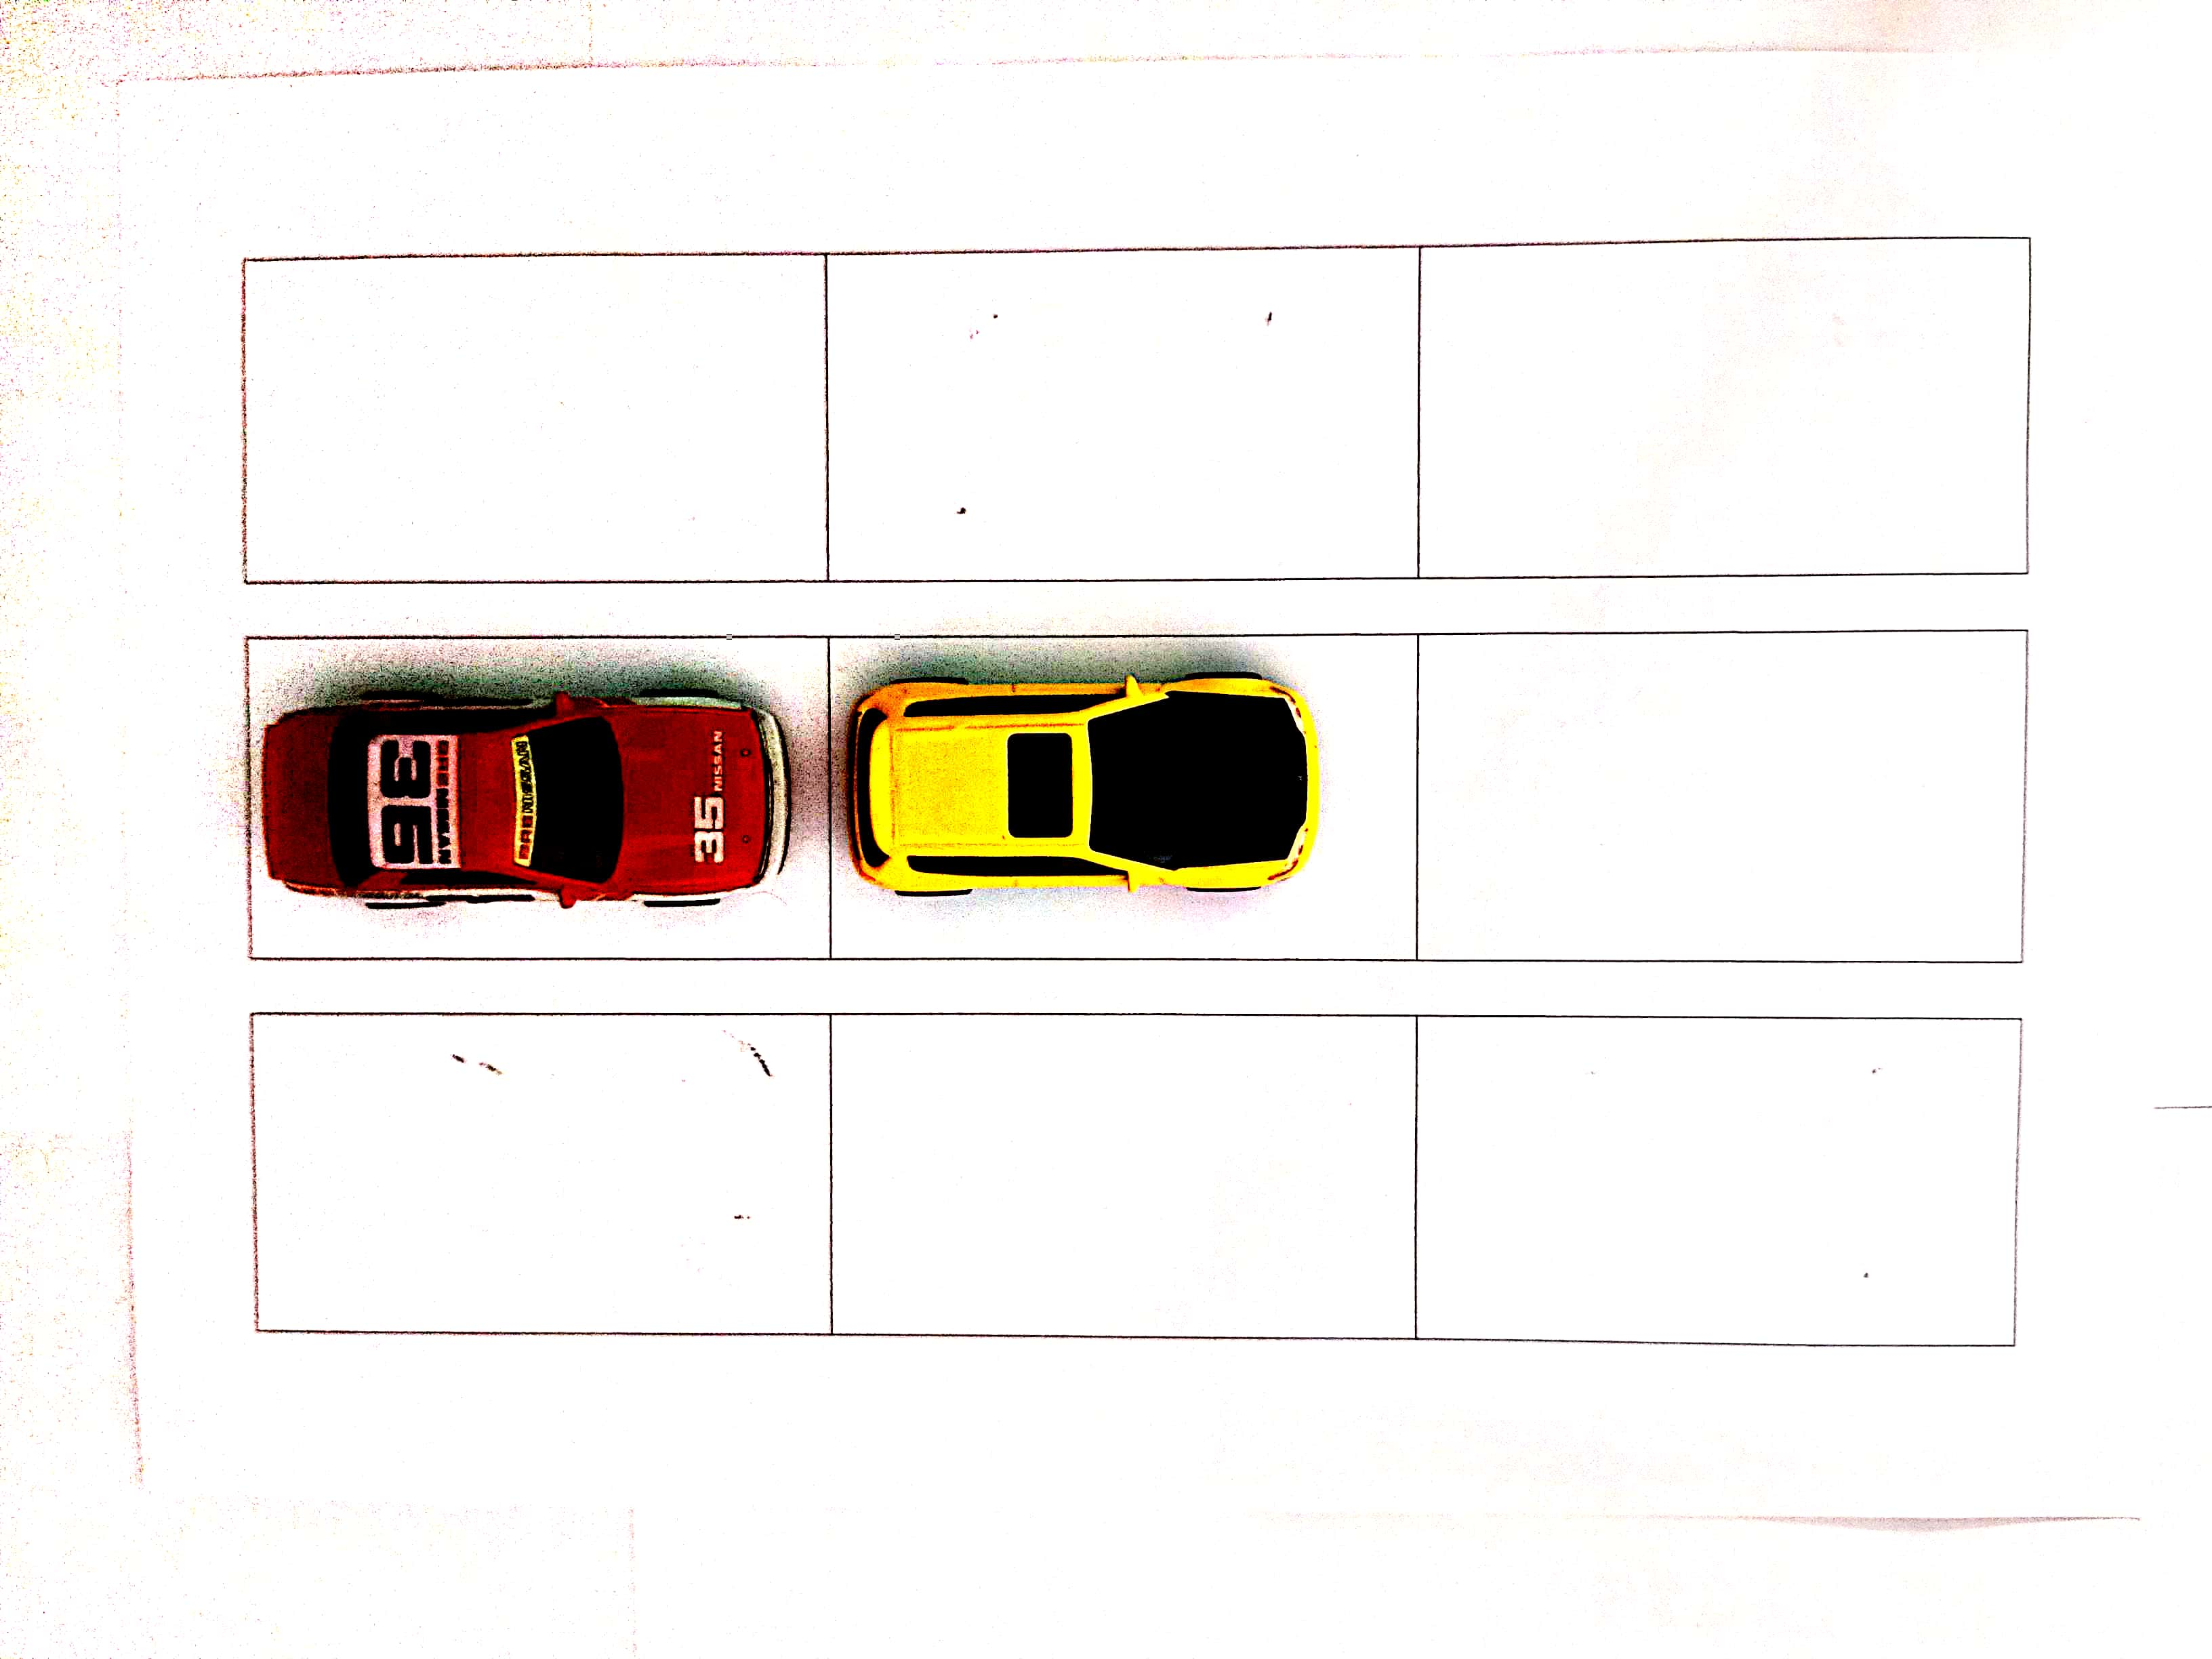Busy: (244, 629, 827, 960), (824, 631, 1414, 946)
Free: (1426, 235, 2022, 570), (1413, 1009, 2013, 1337), (244, 253, 827, 589), (1418, 634, 2022, 957), (827, 244, 1421, 572), (829, 1019, 1421, 1337), (254, 1011, 829, 1331)
